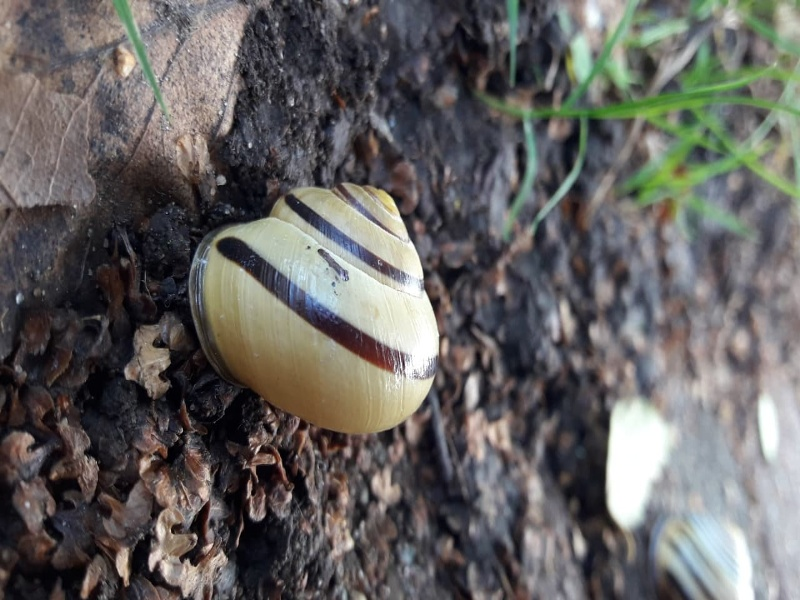snail_Y_M: (175, 174, 463, 448)
